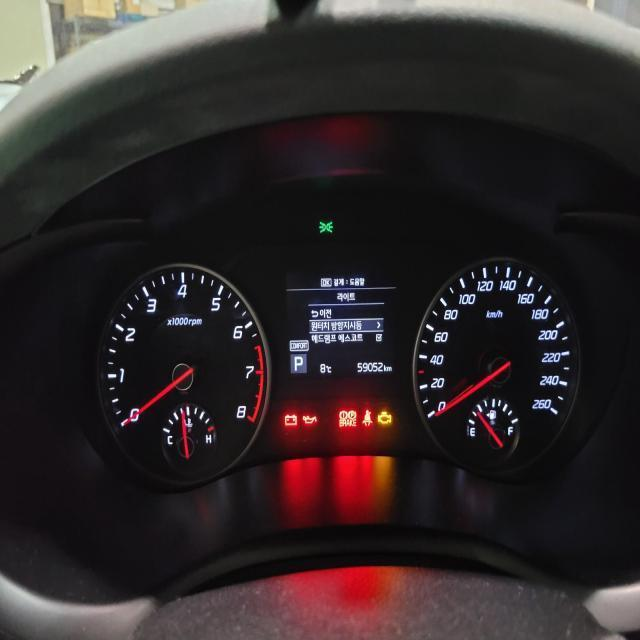SideLamp: (318, 220, 333, 234)
